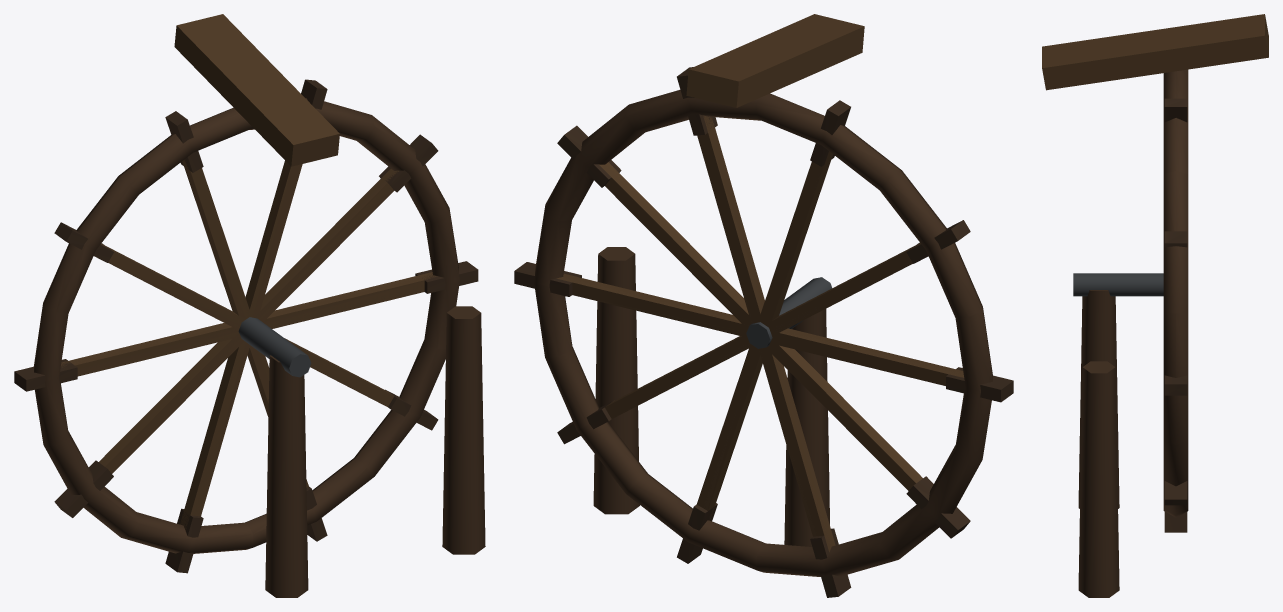
The model's file is water_wheel.glb.
3 renders of one model, left to right at view 1: azimuth 30°, elevation 25°; view 2: azimuth 150°, elevation 25°; view 3: azimuth 270°, elevation 25°, orthographic. The views are drawn at different scales.
Visible parts, largest first — view 1: water_wheel_timber, water_wheel_iron; view 2: water_wheel_timber, water_wheel_iron; view 3: water_wheel_timber, water_wheel_iron.
Part boxes in pixels (<box>): water_wheel_timber: <box>14,14,485,597</box>; water_wheel_iron: <box>238,317,311,377</box>; water_wheel_timber: <box>514,14,1013,597</box>; water_wheel_iron: <box>746,277,831,348</box>; water_wheel_timber: <box>1042,14,1268,597</box>; water_wheel_iron: <box>1073,273,1163,296</box>.
Size of the model in its own units: 4.85 by 5.19 by 2.21.
